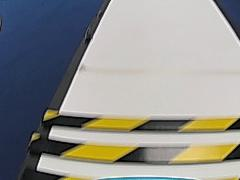bump: (24, 108, 240, 168)
